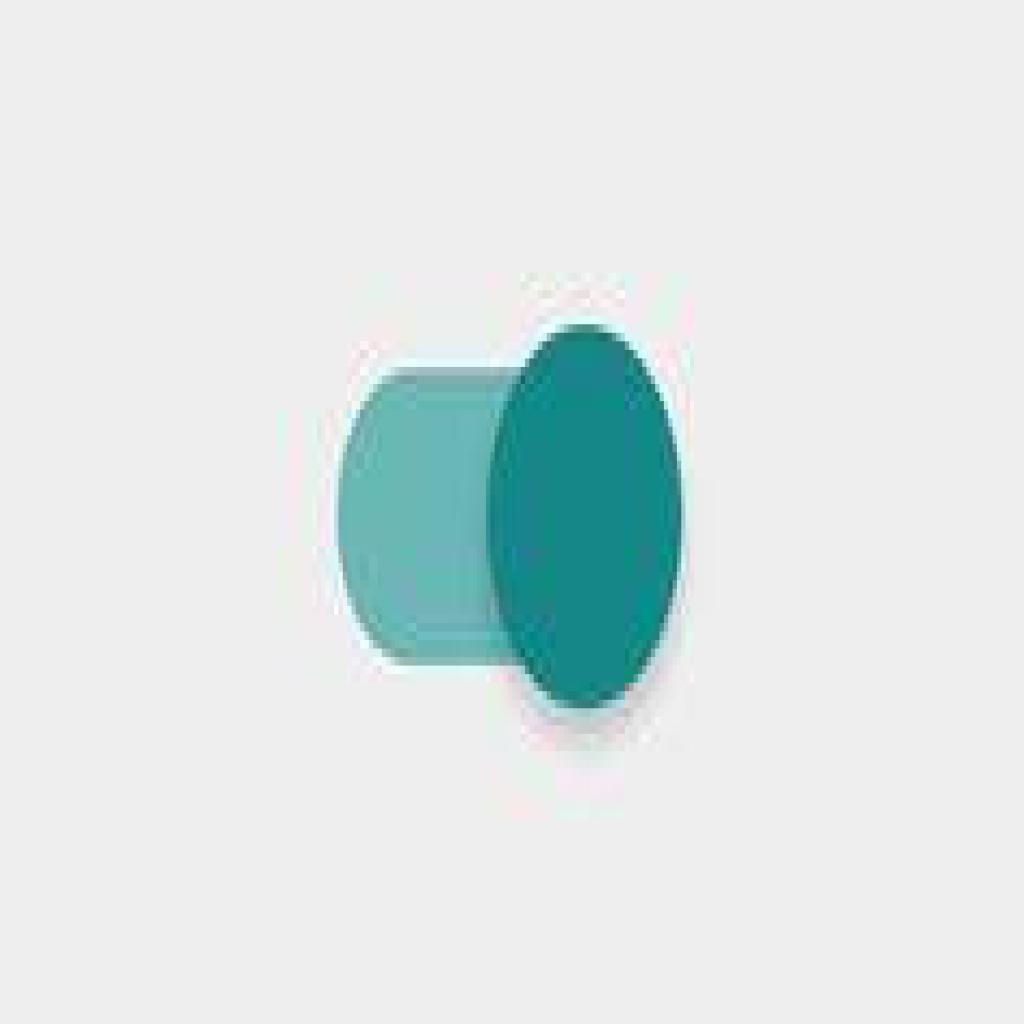switch: (335, 327, 685, 704)
